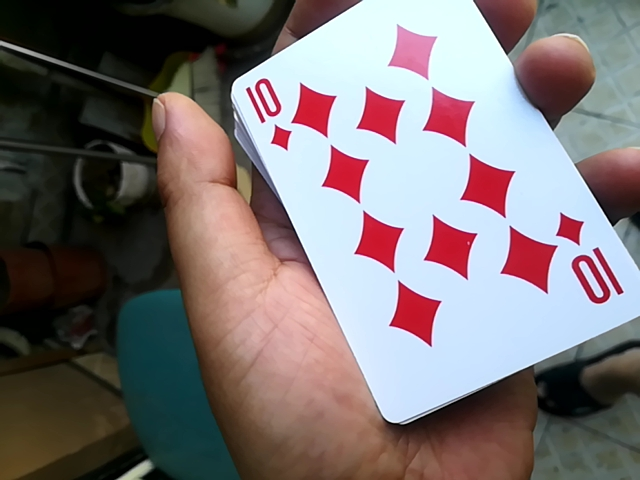fk 10: (222, 5, 637, 421)
